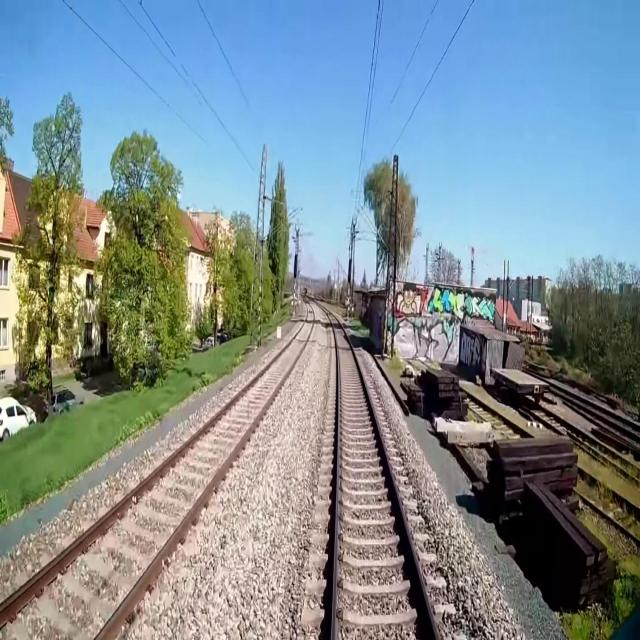rail-track: (0, 302, 313, 639), (327, 312, 435, 639)
